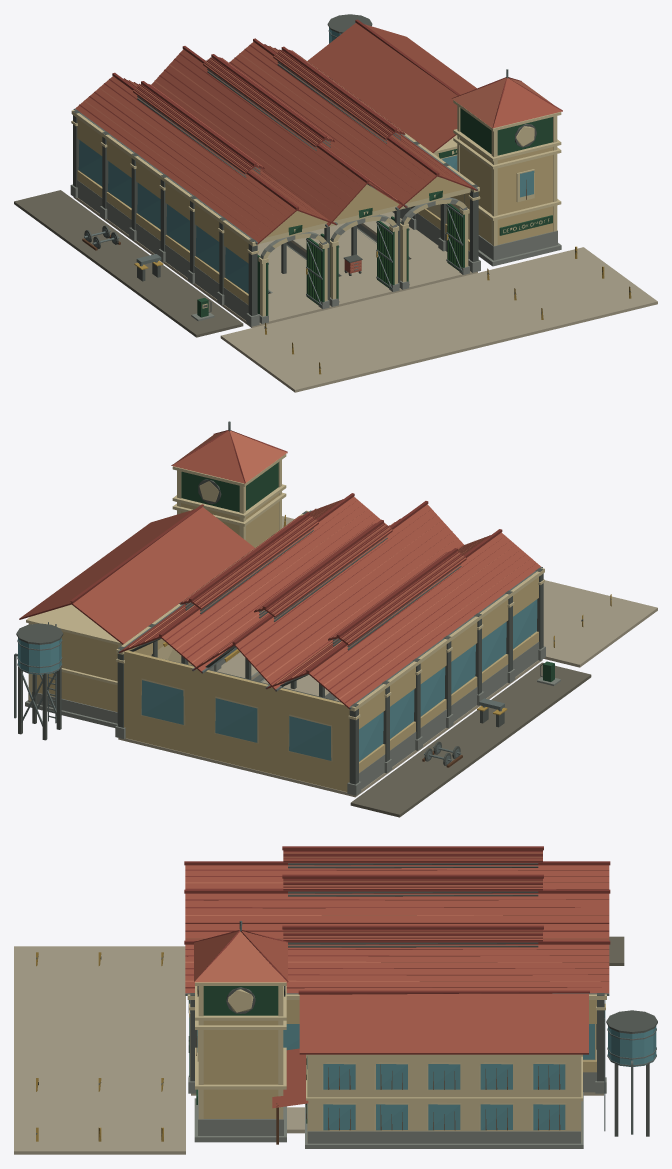
The model's file is riverside-depot-kit-low.glb.
3 views of the same model, one above another, from view 1: azimuth 30°, elevation 25°; view 2: azimuth 150°, elevation 25°; view 3: azimuth 270°, elevation 25° (orthographic). The views are drawn at different scales.
Visible parts, largest first — view 1: GEO-grand-depot-apron, GEO-grand-depot-shed, GEO-grand-depot-clock-tower, GEO-grand-depot-roof-1, GEO-grand-depot-roof-2, GEO-grand-depot-roof-3, GEO-grand-depot-office, GEO-grand-depot-door-1-right, GEO-grand-depot-door-3-right, GEO-grand-depot-door-2-right, GEO-grand-depot-water-tower; view 2: GEO-grand-depot-shed, GEO-grand-depot-office, GEO-grand-depot-roof-1, GEO-grand-depot-roof-2, GEO-grand-depot-apron, GEO-grand-depot-roof-3, GEO-grand-depot-clock-tower, GEO-grand-depot-water-tower; view 3: GEO-grand-depot-office, GEO-grand-depot-apron, GEO-grand-depot-roof-2, GEO-grand-depot-roof-3, GEO-grand-depot-clock-tower, GEO-grand-depot-roof-1, GEO-grand-depot-water-tower, GEO-grand-depot-shed.
Boxes of the visible parts, bbox=[...] form: GEO-grand-depot-apron: bbox=[14, 190, 657, 392]; GEO-grand-depot-shed: bbox=[70, 57, 480, 327]; GEO-grand-depot-clock-tower: bbox=[452, 69, 562, 266]; GEO-grand-depot-roof-1: bbox=[73, 72, 337, 291]; GEO-grand-depot-roof-2: bbox=[151, 46, 407, 227]; GEO-grand-depot-roof-3: bbox=[229, 38, 477, 210]; GEO-grand-depot-office: bbox=[307, 19, 476, 170]; GEO-grand-depot-door-1-right: bbox=[306, 238, 324, 306]; GEO-grand-depot-door-3-right: bbox=[446, 203, 464, 272]; GEO-grand-depot-door-2-right: bbox=[376, 221, 394, 289]; GEO-grand-depot-water-tower: bbox=[327, 14, 372, 43]; GEO-grand-depot-shed: bbox=[115, 510, 545, 797]; GEO-grand-depot-office: bbox=[19, 504, 254, 727]; GEO-grand-depot-roof-1: bbox=[265, 529, 542, 709]; GEO-grand-depot-roof-2: bbox=[192, 501, 463, 691]; GEO-grand-depot-apron: bbox=[282, 515, 657, 817]; GEO-grand-depot-roof-3: bbox=[118, 493, 386, 673]; GEO-grand-depot-clock-tower: bbox=[171, 421, 287, 547]; GEO-grand-depot-water-tower: bbox=[14, 622, 63, 740]; GEO-grand-depot-office: bbox=[272, 990, 589, 1148]; GEO-grand-depot-apron: bbox=[14, 936, 624, 1154]; GEO-grand-depot-roof-2: bbox=[184, 874, 610, 940]; GEO-grand-depot-roof-3: bbox=[184, 925, 610, 995]; GEO-grand-depot-clock-tower: bbox=[193, 921, 288, 1142]; GEO-grand-depot-roof-1: bbox=[184, 846, 610, 889]; GEO-grand-depot-water-tower: bbox=[604, 1010, 657, 1136]; GEO-grand-depot-shed: bbox=[187, 993, 606, 1095].
Size of the model in its own units: 32.5 by 14.78 by 41.15.
